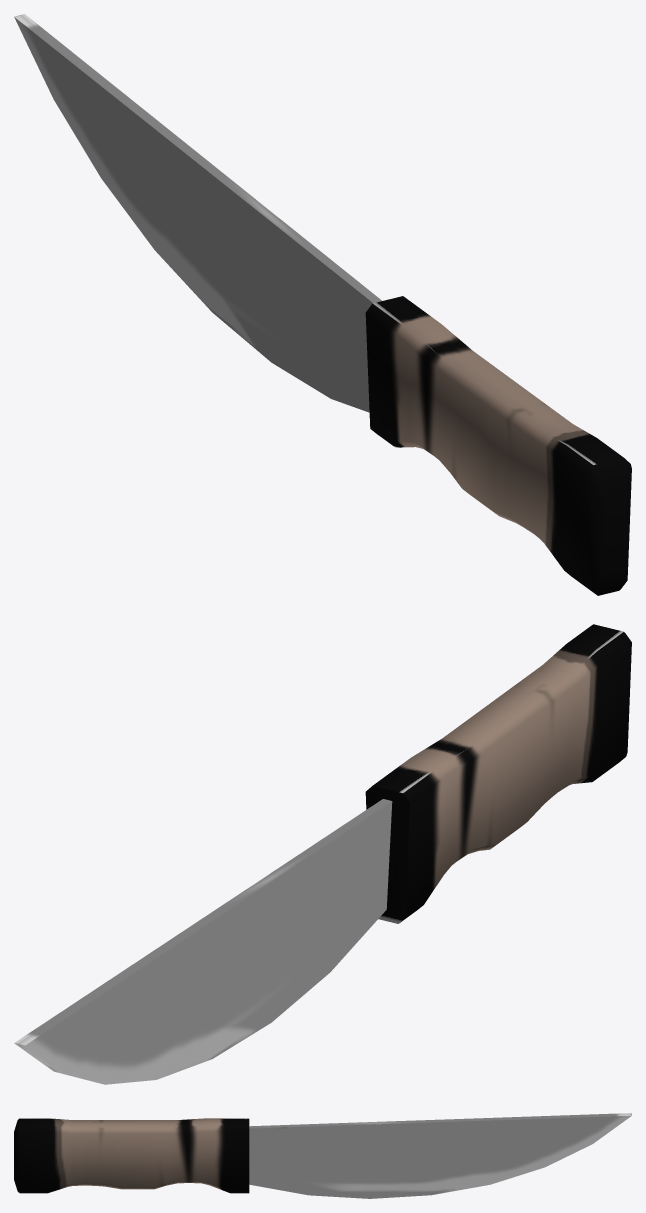
The model's file is knife.fbx.
3 views of the same model, one above another, from view 1: azimuth 30°, elevation 25°; view 2: azimuth 150°, elevation 25°; view 3: azimuth 270°, elevation 25° (orthographic). The views are drawn at different scales.
Visible parts, largest first — view 1: knife; view 2: knife; view 3: knife.
Part boxes in pixels (box(x1,y1,x2,y2)): knife: box(14, 14, 631, 595); knife: box(14, 624, 631, 1084); knife: box(14, 1113, 631, 1198).
Size of the model in its own units: 12.65 by 44.42 by 294.
